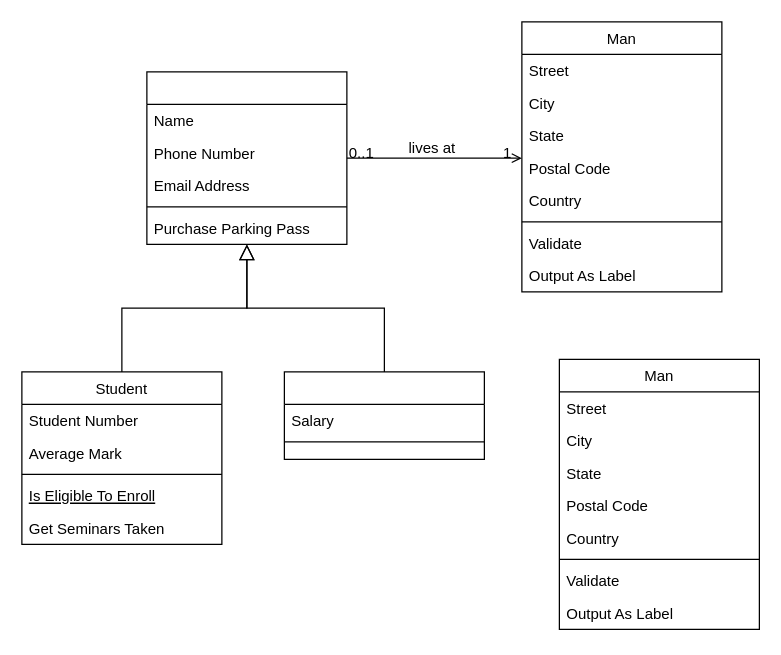
This 781x655 diagram has some shape labels left out. The shapes that lost their labels are listed below. From the top down, each one's box as (x1, y1, x2, y2) in pixels, then its label:
(146, 71, 347, 244): Seller
(283, 371, 484, 459): Professor
